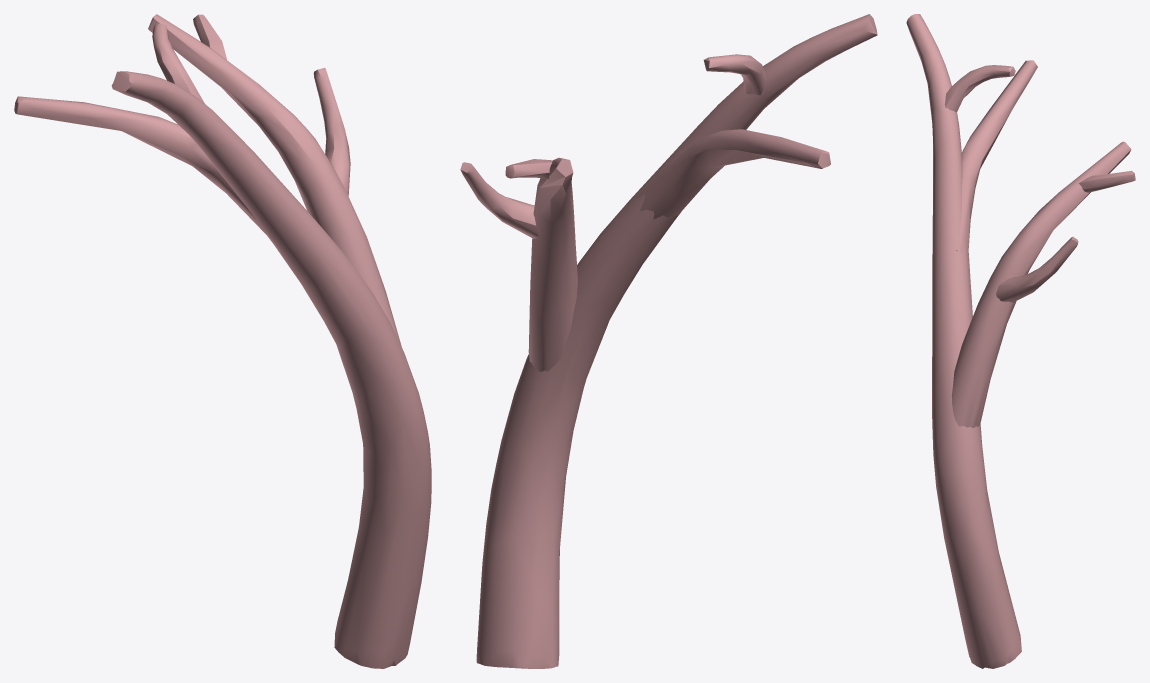
Rendered from fma68223_cx161.glb.
The picture shows the model from 3 angles, left to right: view 1: azimuth 30°, elevation 25°; view 2: azimuth 150°, elevation 25°; view 3: azimuth 270°, elevation 25°; orthographic projection. The views are drawn at different scales.
Parts seen in each view (by area): view 1: FMA68223_CX161; view 2: FMA68223_CX161; view 3: FMA68223_CX161.
Boxes of the visible parts, box(x1,y1,x2,y2) form: FMA68223_CX161: box(14, 14, 431, 668); FMA68223_CX161: box(460, 14, 877, 668); FMA68223_CX161: box(906, 14, 1135, 668).
Bounding box in the file's own units: 0.0458 × 0.0813 × 0.0316.
